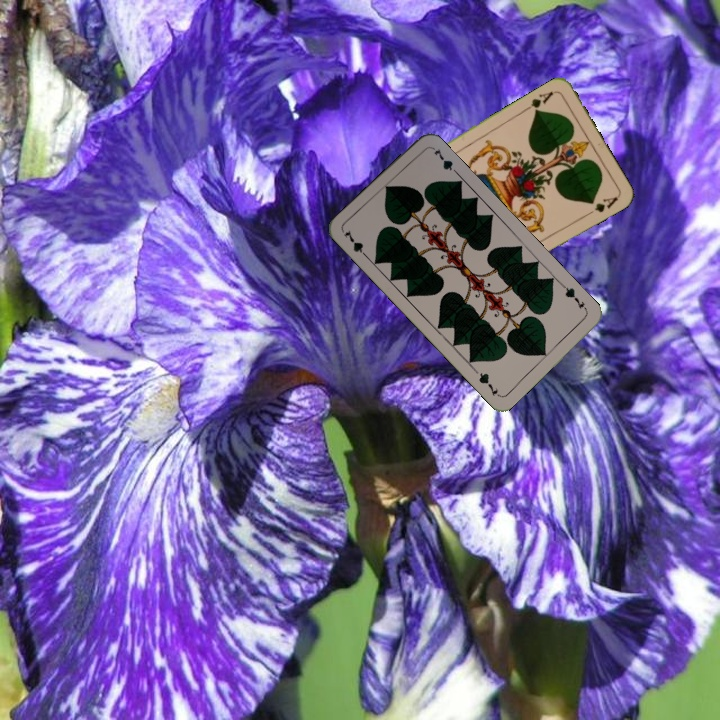G7: (340, 226, 371, 261), (558, 281, 590, 314)
GA: (521, 87, 558, 115)
